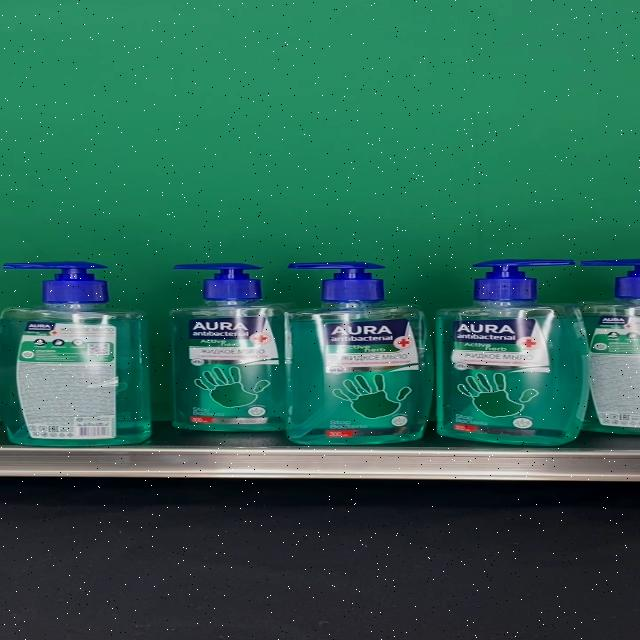Bottle: (436, 259, 589, 446), (0, 261, 152, 445), (284, 261, 432, 445), (168, 263, 302, 431)
Cap: (474, 258, 577, 302), (3, 261, 110, 301), (288, 261, 389, 299), (172, 264, 262, 300)
